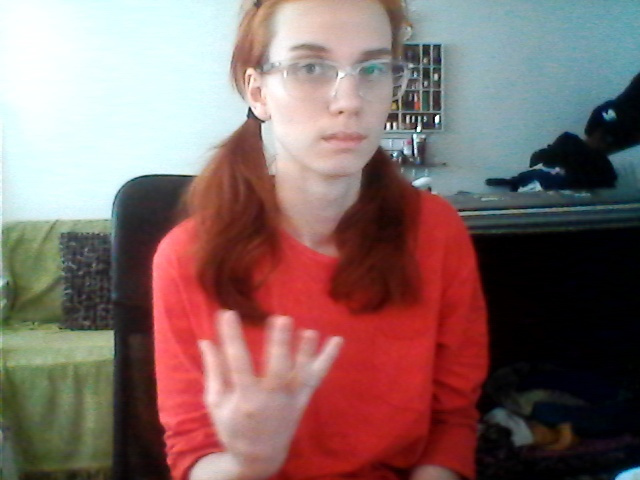kedy: (188, 307, 349, 453)
